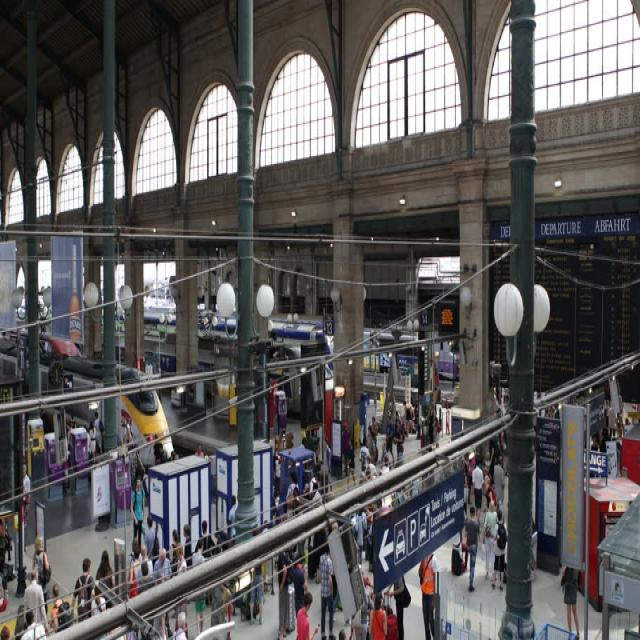body: (588, 395, 631, 476), (403, 383, 452, 449), (291, 432, 323, 519), (151, 545, 173, 639), (122, 414, 146, 494), (22, 566, 50, 634), (417, 550, 438, 640), (151, 436, 210, 468), (318, 542, 337, 640), (210, 544, 232, 628), (261, 448, 282, 533), (461, 504, 481, 592), (191, 538, 207, 638), (489, 508, 508, 592), (31, 534, 50, 618), (173, 540, 189, 639), (560, 565, 581, 640), (249, 524, 264, 625), (482, 499, 500, 580), (72, 558, 94, 622), (48, 583, 74, 636), (94, 548, 115, 613), (294, 589, 321, 639), (451, 499, 469, 573), (127, 535, 154, 584), (130, 476, 146, 555), (276, 549, 289, 639), (470, 456, 486, 527), (389, 573, 406, 639), (493, 385, 510, 451), (368, 589, 388, 640), (193, 518, 216, 558), (0, 602, 25, 638), (292, 554, 306, 618), (144, 514, 160, 570), (20, 461, 32, 531), (483, 444, 494, 511), (492, 454, 507, 502), (378, 451, 405, 477), (169, 608, 191, 639), (452, 529, 468, 571), (464, 453, 476, 507), (383, 414, 395, 466), (227, 495, 239, 545), (358, 435, 372, 476), (346, 436, 357, 488), (323, 435, 332, 493), (168, 528, 178, 580), (393, 419, 405, 461), (91, 585, 107, 616), (366, 424, 379, 461), (358, 466, 378, 490), (93, 409, 103, 456), (286, 468, 300, 501), (183, 523, 193, 568), (542, 400, 561, 423), (380, 440, 389, 488), (342, 424, 350, 472), (65, 418, 76, 450), (137, 558, 151, 582), (214, 529, 228, 552), (89, 420, 96, 464), (365, 453, 378, 476), (84, 423, 92, 457), (338, 626, 348, 638), (370, 416, 376, 433), (395, 408, 400, 421)
